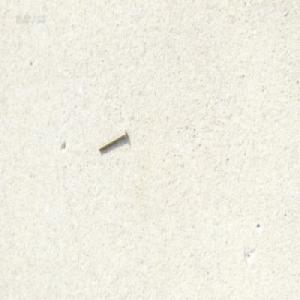Bolt: (97, 128, 127, 153)
